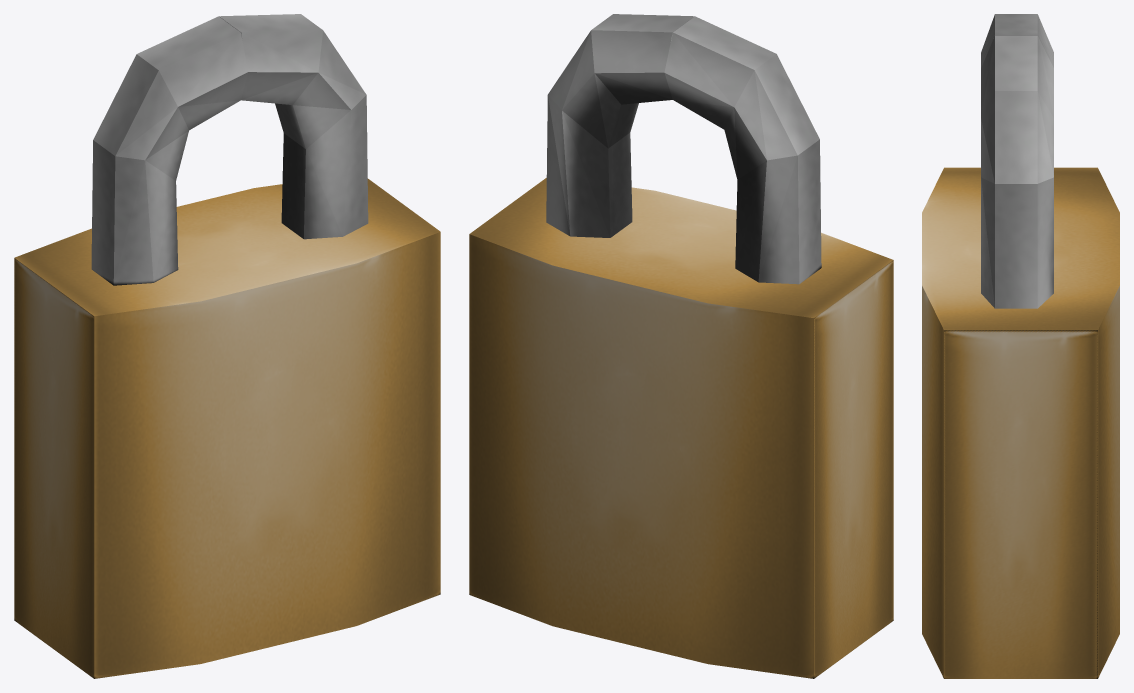
Rendered from cadeado.FBX.
3 renders of one model, left to right at view 1: azimuth 30°, elevation 25°; view 2: azimuth 150°, elevation 25°; view 3: azimuth 270°, elevation 25°, orthographic. The views are drawn at different scales.
Parts seen in each view (by area): view 1: Box001; view 2: Box001; view 3: Box001.
Part boxes in pixels (<box>): Box001: <box>14,14,440,678</box>; Box001: <box>469,14,893,678</box>; Box001: <box>922,14,1119,678</box>.
Size of the model in its own units: 2.5 by 4.03 by 1.28.
1 material, 1 textured.
